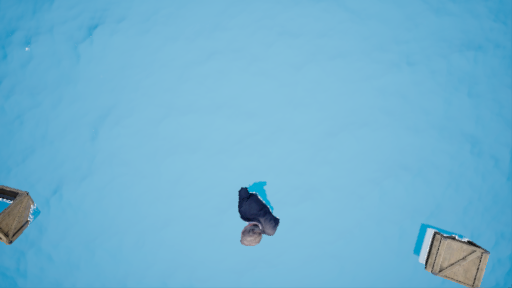person: (238, 183, 285, 246)
